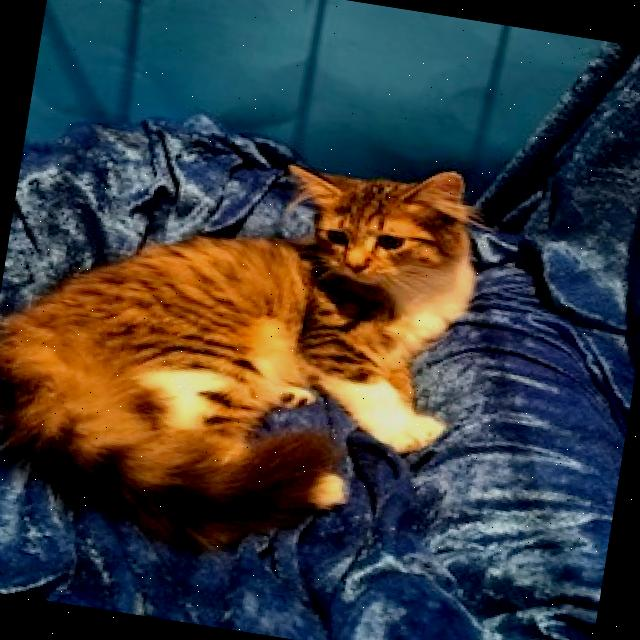maine_coon_cat: (253, 133, 513, 320)
